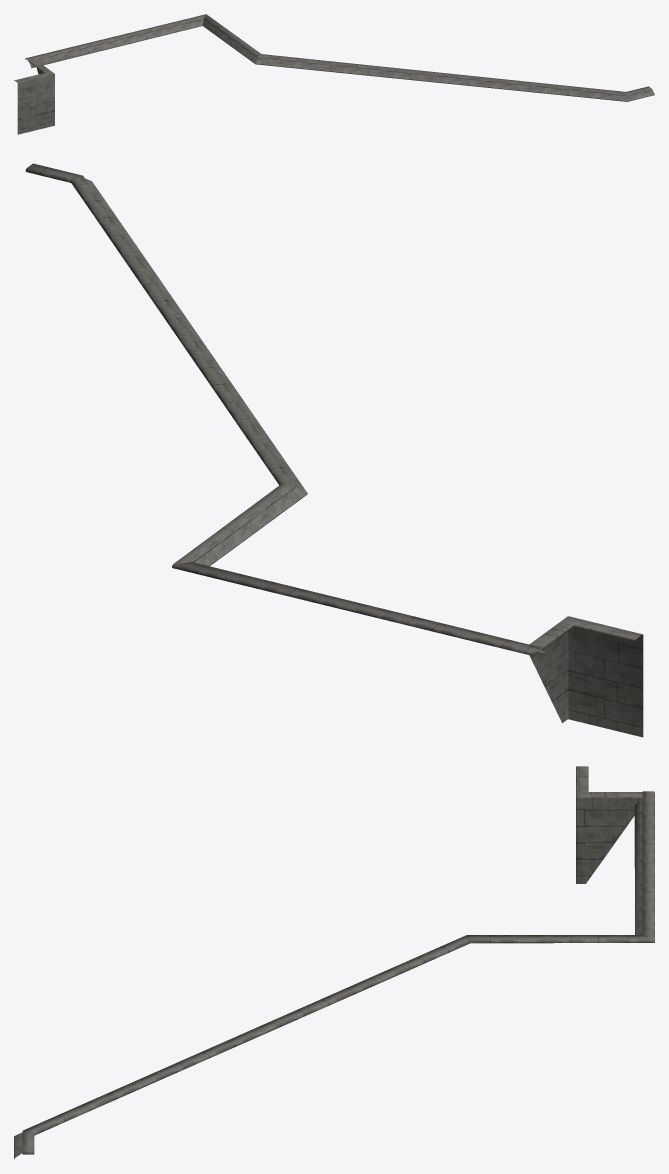
File: SM_ENV_LKNVLD_Ground_Hill_Left_HillSideTrim_01.FBX
3 views of the same model, one above another, from view 1: azimuth 30°, elevation 25°; view 2: azimuth 150°, elevation 25°; view 3: azimuth 270°, elevation 25° (orthographic). The views are drawn at different scales.
Parts seen in each view (by area): view 1: SM_ENV_LKNVLD_Ground_Hill_Left_HillSideTrim_01; view 2: SM_ENV_LKNVLD_Ground_Hill_Left_HillSideTrim_01; view 3: SM_ENV_LKNVLD_Ground_Hill_Left_HillSideTrim_01.
Part boxes in pixels (<box>): SM_ENV_LKNVLD_Ground_Hill_Left_HillSideTrim_01: <box>14,14,654,134</box>; SM_ENV_LKNVLD_Ground_Hill_Left_HillSideTrim_01: <box>25,163,643,737</box>; SM_ENV_LKNVLD_Ground_Hill_Left_HillSideTrim_01: <box>14,766,654,1158</box>.
Size of the model in its own units: 5797 by 613 by 4073.
